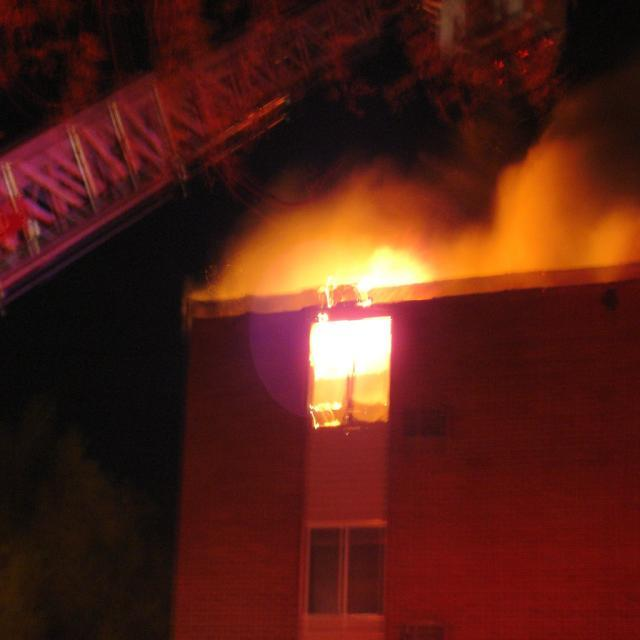Fire: (313, 323, 392, 372), (366, 255, 419, 280)
